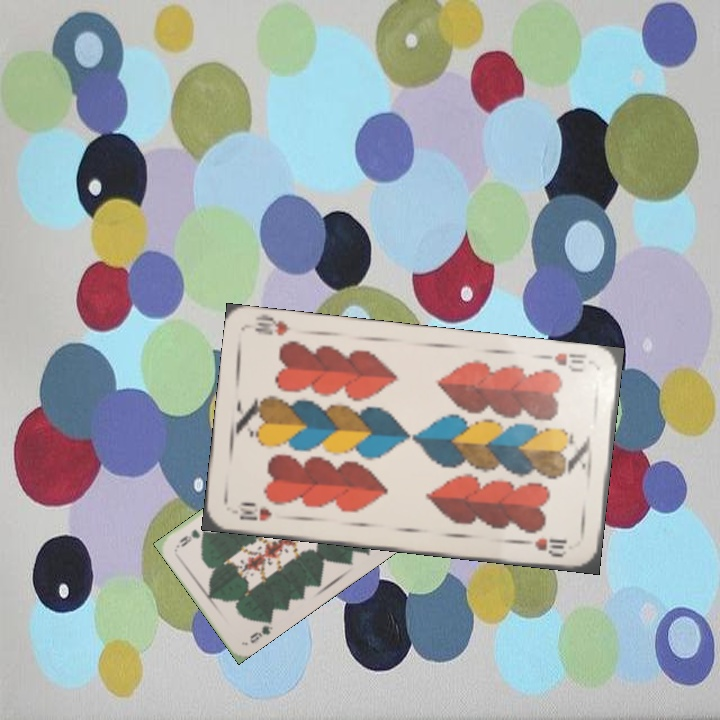G9: (245, 621, 275, 646)
H10: (537, 348, 589, 375), (233, 499, 274, 524)
